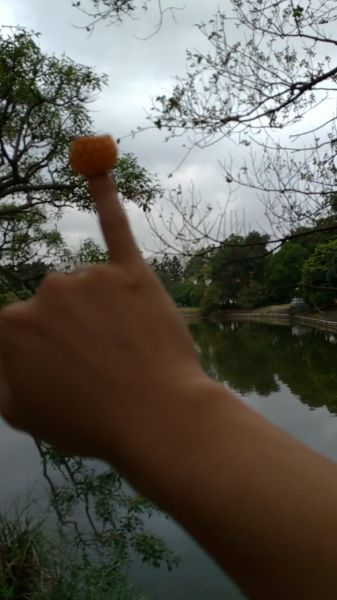eggs: (72, 134, 118, 175)
